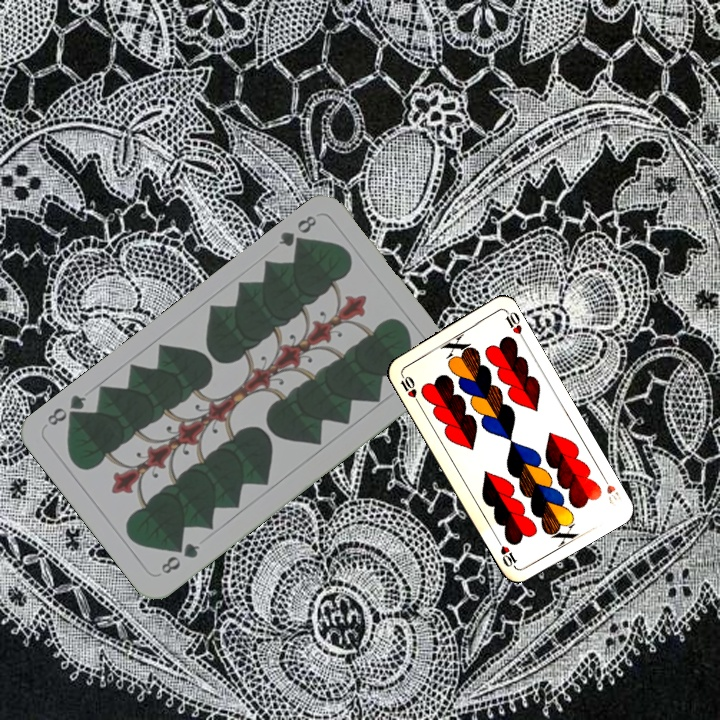G8: (274, 211, 319, 253), (156, 538, 203, 577)
H10: (598, 470, 625, 507), (396, 369, 422, 407)
